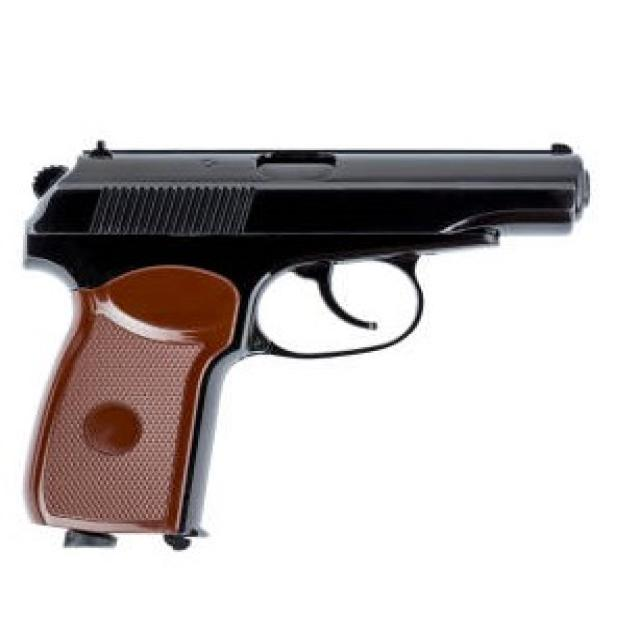pistol: (16, 130, 603, 565)
